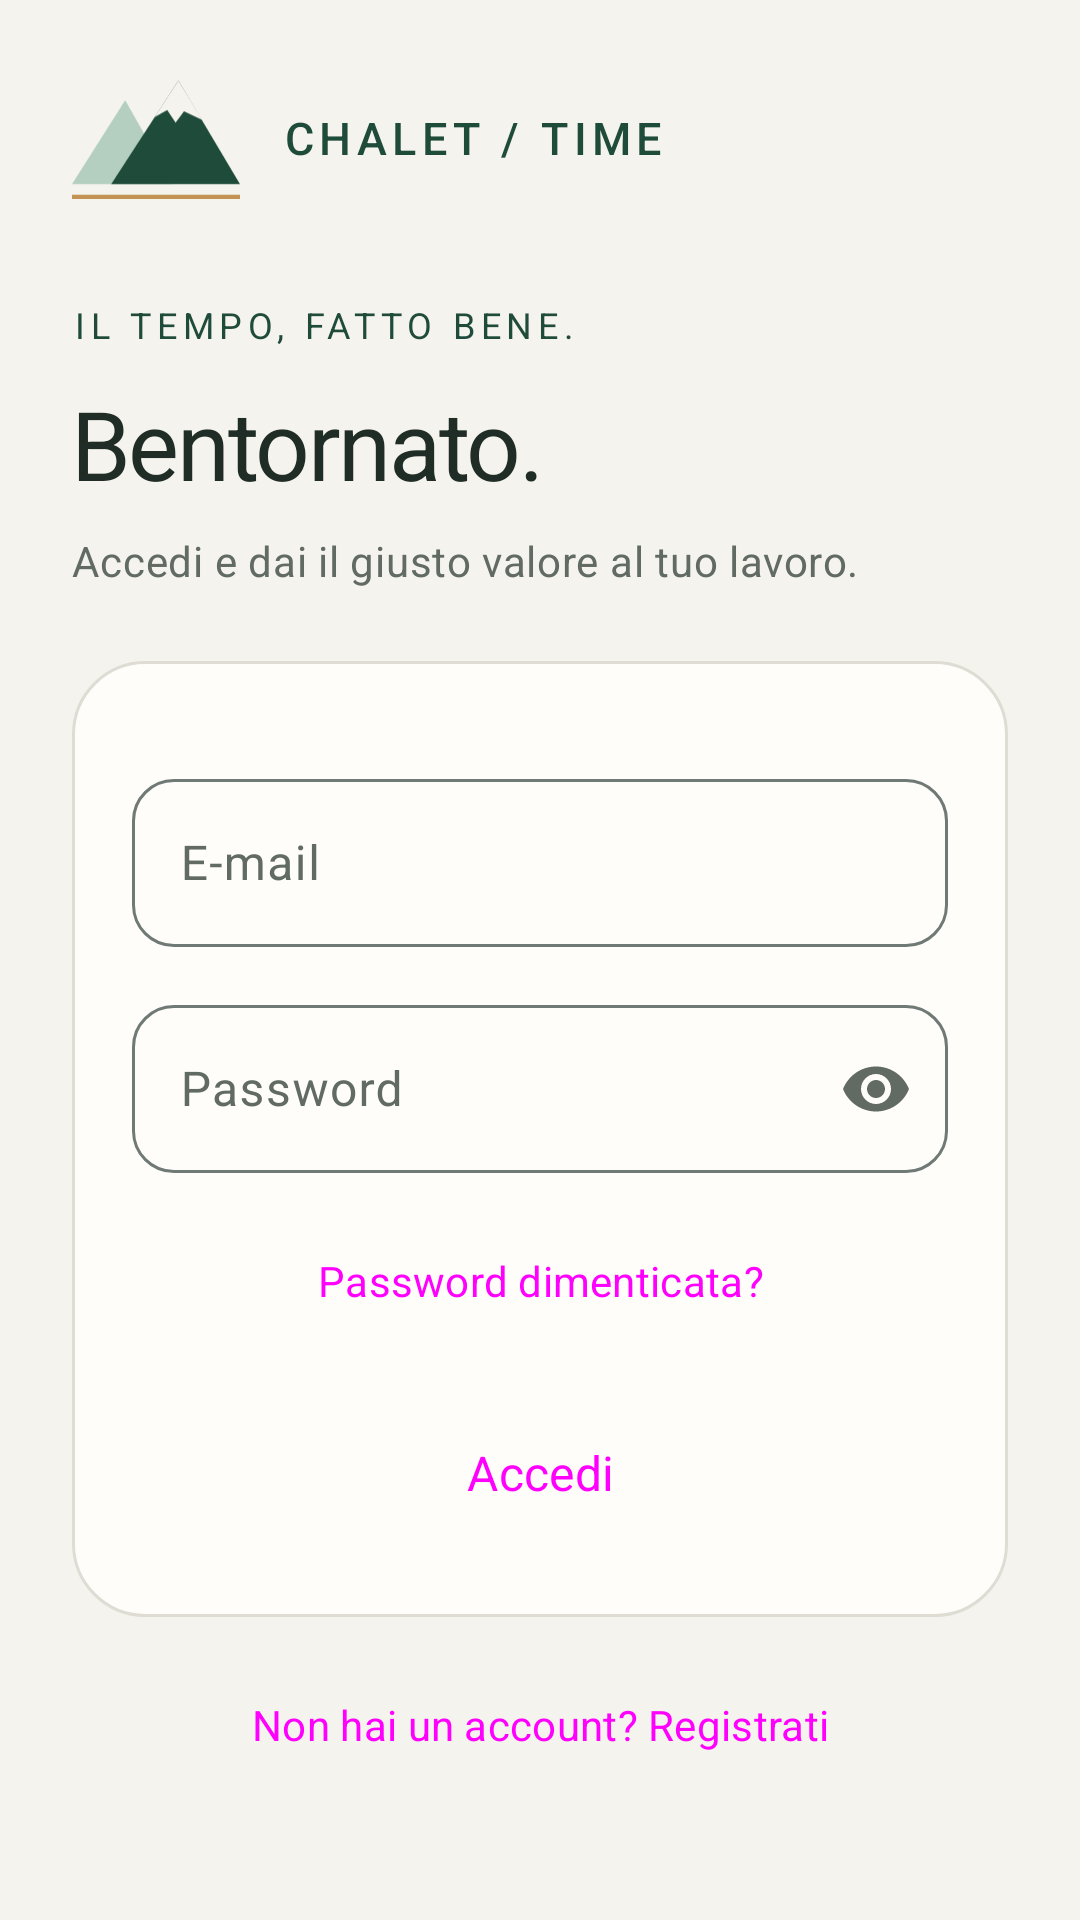

Point at icon controls on the screen. Image size 1080 × 1920, points as (x,y).
alpine mark: (156,139)
